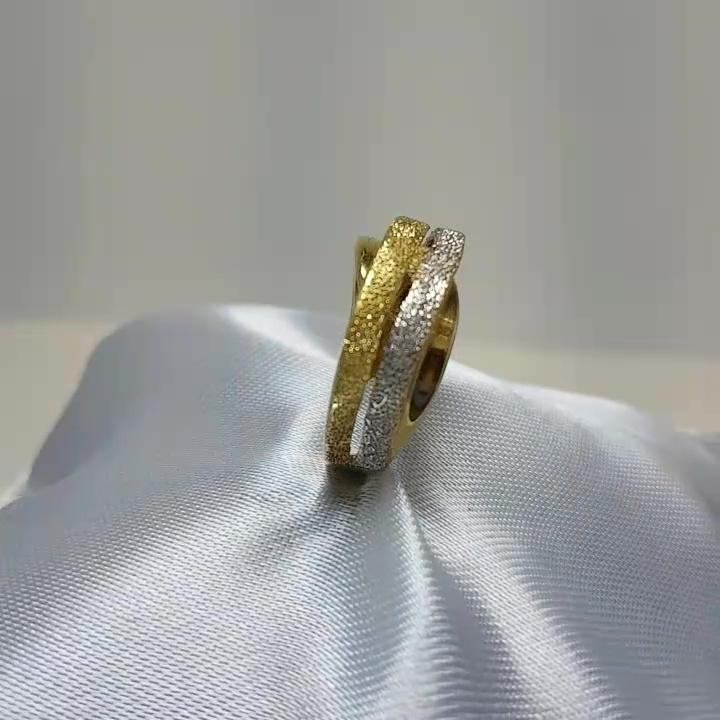Ring 5: (302, 197, 485, 530)
